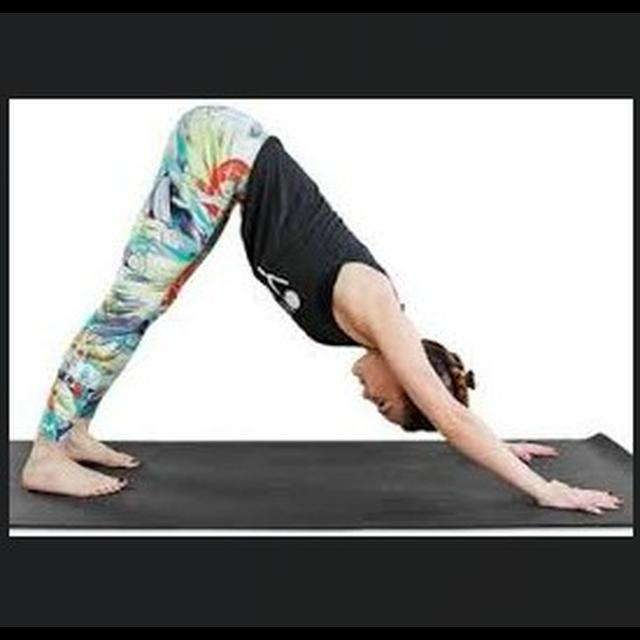Downward-Facing_Dog: (18, 102, 627, 519)
